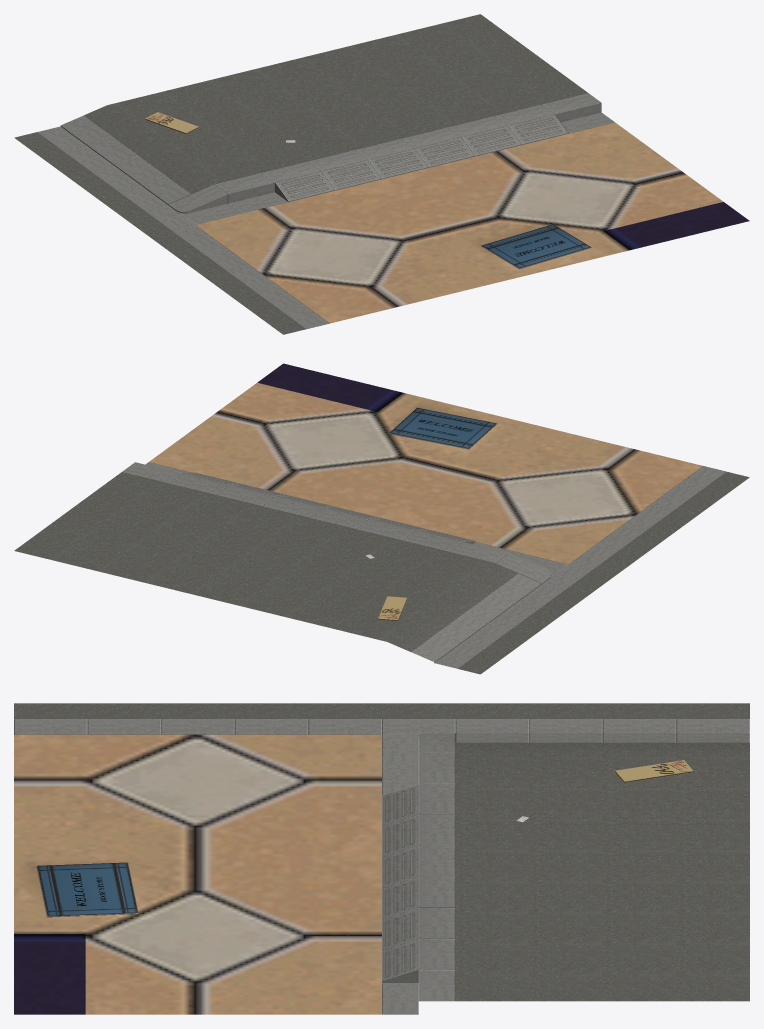
The picture shows the model from 3 angles, top to bottom: view 1: azimuth 30°, elevation 25°; view 2: azimuth 150°, elevation 25°; view 3: azimuth 270°, elevation 25°; orthographic projection. The views are drawn at different scales.
Visible parts, largest first — view 1: Joint_0_Object_2, Joint_0_Object_3, Joint_0_Object_1, Joint_0_Object_4, Joint_0_Object_0; view 2: Joint_0_Object_2, Joint_0_Object_3, Joint_0_Object_1, Joint_0_Object_4, Joint_0_Object_0; view 3: Joint_0_Object_2, Joint_0_Object_3, Joint_0_Object_1, Joint_0_Object_4, Joint_0_Object_0.
Boxes of the visible parts, x1,y1,x2,y2 form: Joint_0_Object_2: [196, 122, 749, 323]; Joint_0_Object_3: [14, 14, 587, 334]; Joint_0_Object_1: [38, 93, 614, 328]; Joint_0_Object_4: [481, 224, 591, 269]; Joint_0_Object_0: [145, 112, 295, 142]; Joint_0_Object_2: [149, 363, 702, 564]; Joint_0_Object_3: [14, 471, 749, 674]; Joint_0_Object_1: [122, 462, 725, 668]; Joint_0_Object_4: [389, 407, 497, 449]; Joint_0_Object_0: [366, 554, 407, 620]; Joint_0_Object_2: [14, 734, 381, 1014]; Joint_0_Object_3: [14, 703, 749, 1001]; Joint_0_Object_1: [14, 719, 749, 1014]; Joint_0_Object_4: [36, 862, 138, 917]; Joint_0_Object_0: [516, 760, 693, 822].
Bounding box in the file's own units: 10000 × 219 × 10000.
Materials: 6 (6 with a texture image).
